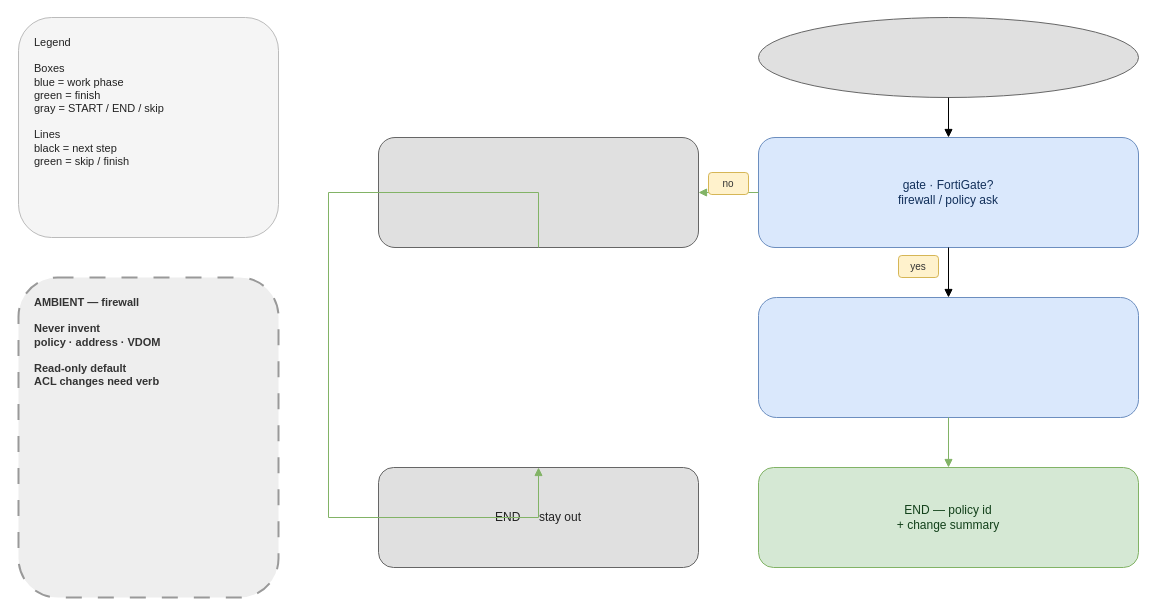
Image size: 1156x616. Some labels were removed from this diagram. Here are the shapes that lost their labels. From the top down, the centre of each, then its label:
At (x=948, y=57): "START — user ask".
At (x=538, y=192): "skip — no firewall ordinary coding".
At (x=948, y=357): "inventory / health mutate only with explicit verb + risk".
